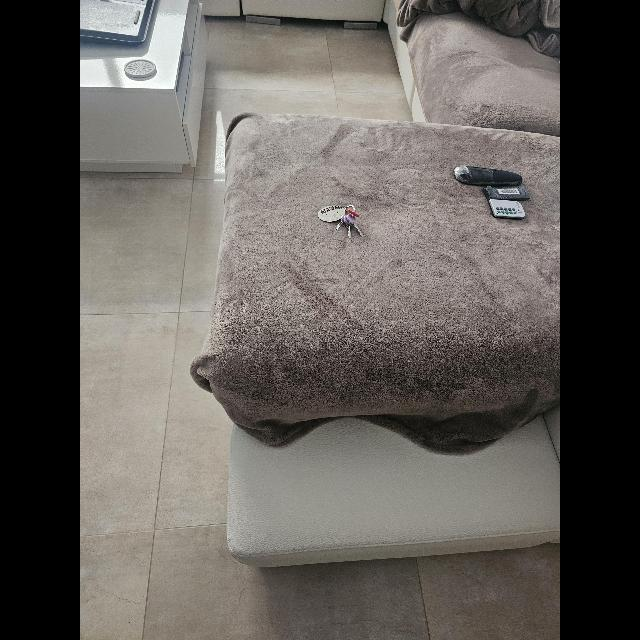Keys: (318, 204, 367, 240)
